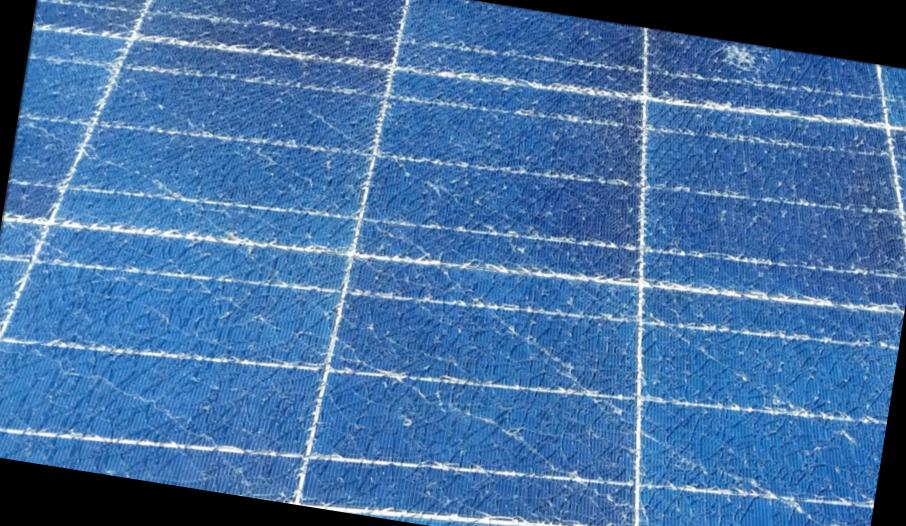Crack: (704, 38, 772, 82)
